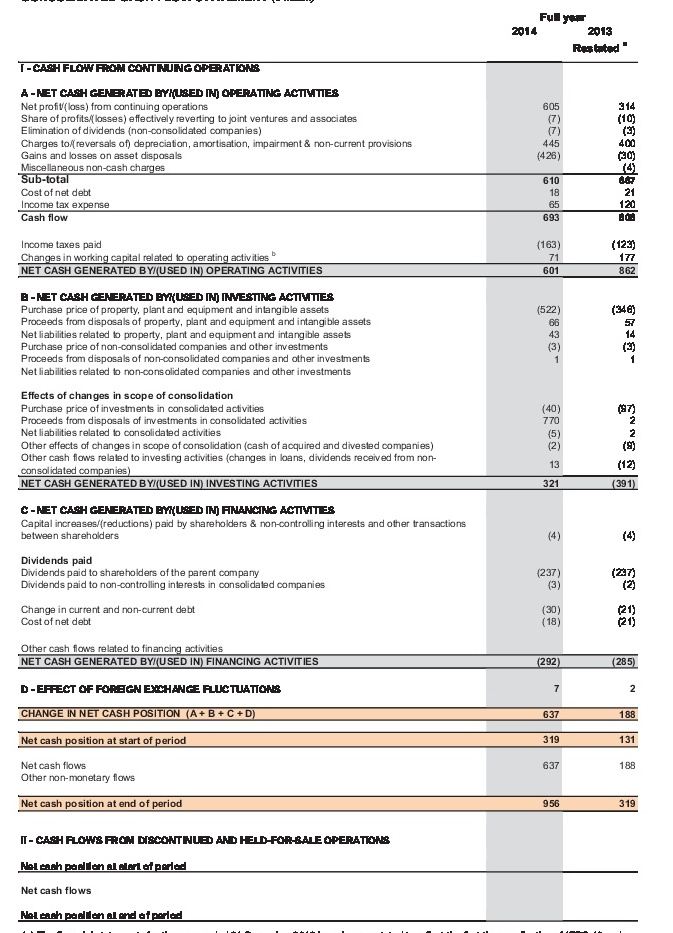table: (0, 0, 673, 933)
